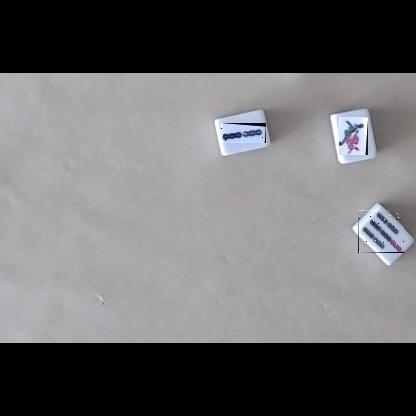1s: (339, 117, 368, 155)
2s: (221, 123, 266, 143)
7s: (358, 210, 404, 253)
